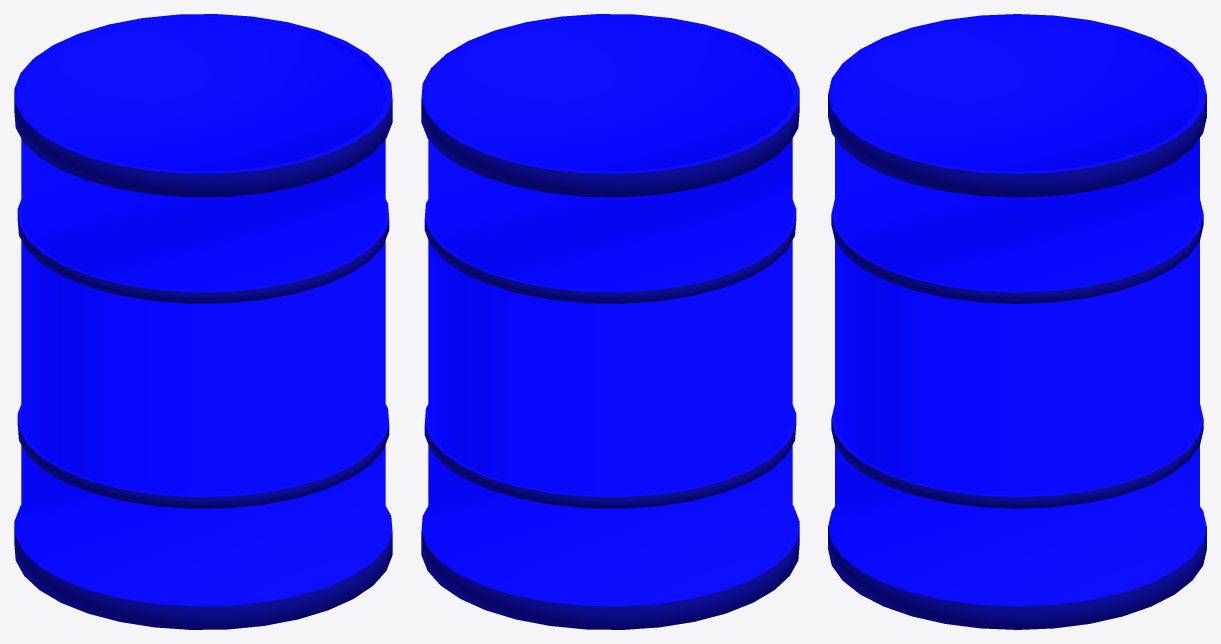
File: barrel.gltf
3 views of the same model, side by side, from view 1: azimuth 30°, elevation 25°; view 2: azimuth 150°, elevation 25°; view 3: azimuth 270°, elevation 25° (orthographic).
Visible parts, largest first — view 1: Cylinder; view 2: Cylinder; view 3: Cylinder.
Boxes of the visible parts, left/top/right/bottom form: Cylinder: left=14, top=14, right=392, bottom=629; Cylinder: left=421, top=14, right=799, bottom=629; Cylinder: left=828, top=14, right=1206, bottom=629.
Size of the model in its own units: 2.07 by 2.76 by 2.07.
